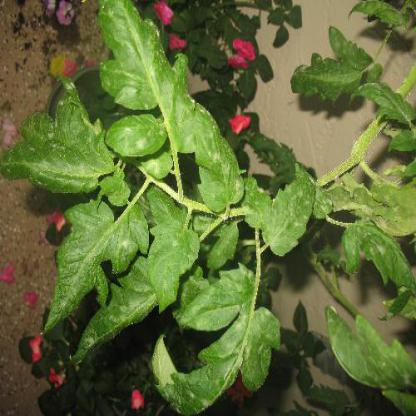Tomato mold leaf: (150, 267, 285, 404), (42, 190, 151, 336), (91, 1, 200, 116), (1, 83, 106, 194), (320, 308, 415, 402), (190, 102, 250, 210), (337, 217, 415, 291), (262, 170, 316, 260), (102, 113, 169, 168)
